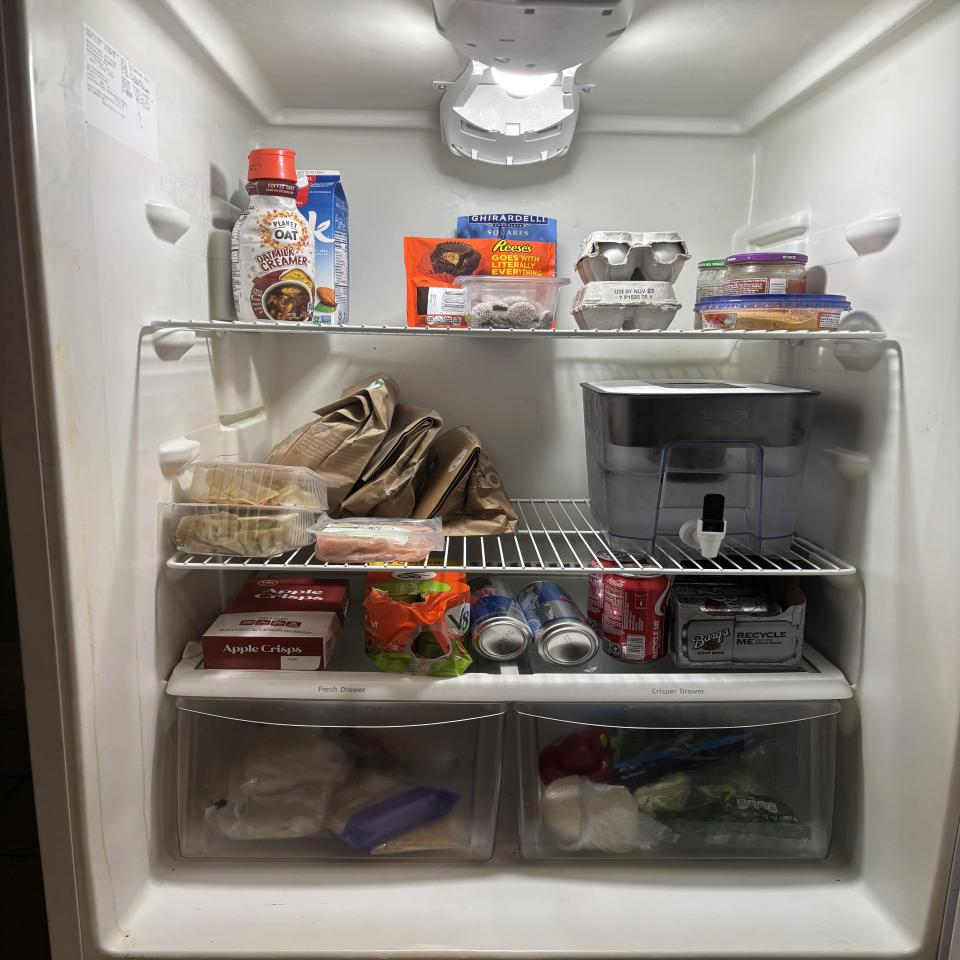Carne pollo: (309, 516, 440, 564)
Huevos: (574, 232, 689, 282), (573, 282, 680, 330)
bell pepper: (540, 734, 612, 785)
